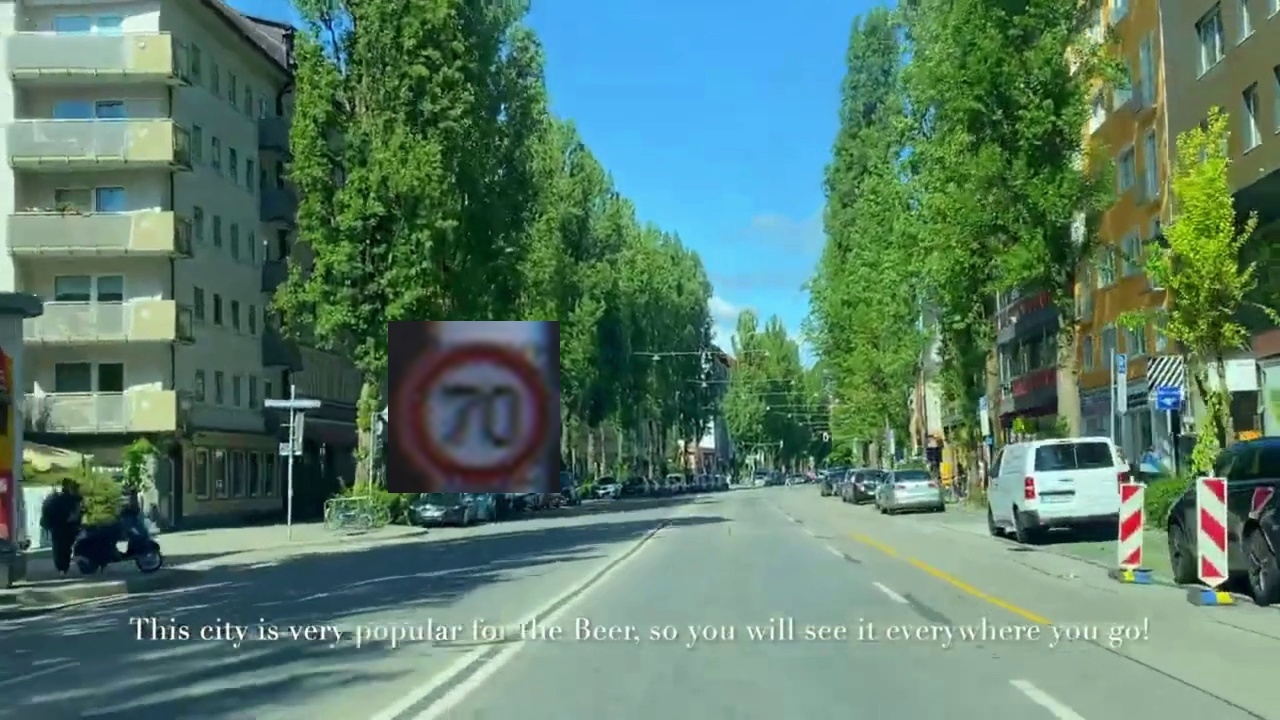Speed 70: (388, 321, 560, 493)
